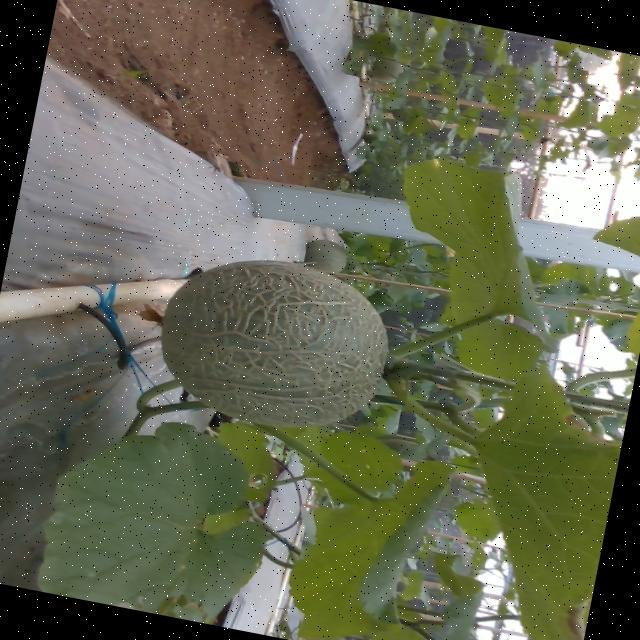melon: (160, 261, 387, 427)
